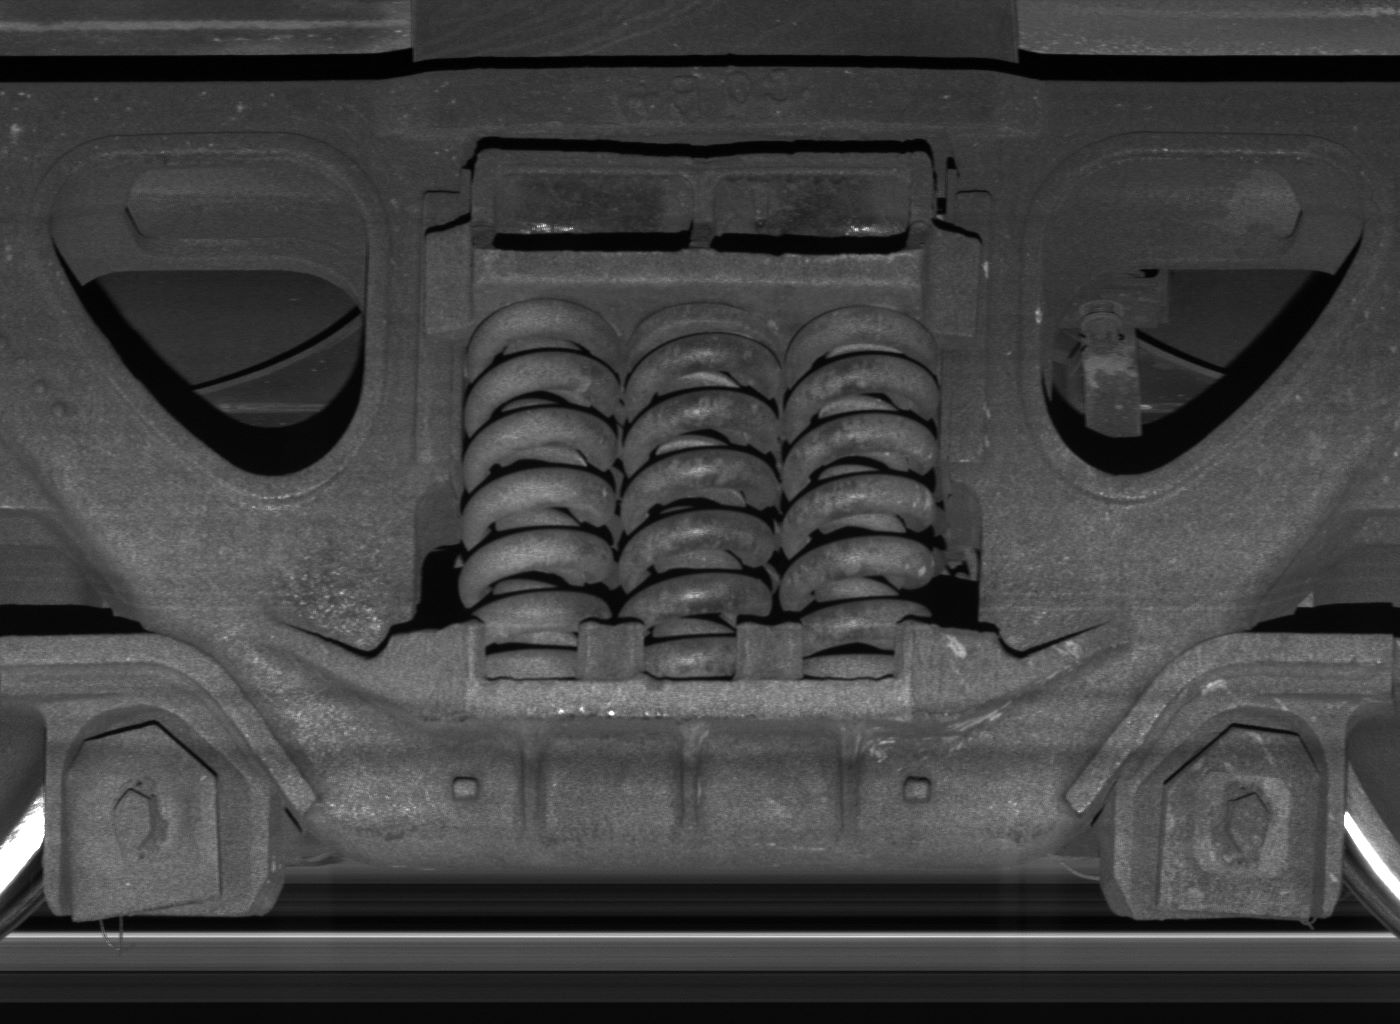Locking plate: (1115, 705, 1346, 925), (43, 705, 271, 923)
